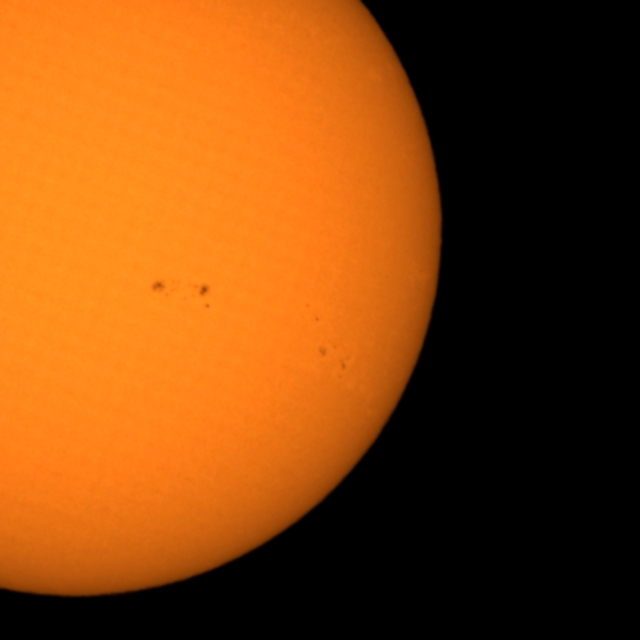sunspot: (147, 277, 215, 305), (316, 342, 352, 376), (193, 281, 213, 307), (149, 279, 173, 299), (338, 352, 351, 378), (316, 344, 329, 360), (203, 302, 212, 311), (313, 315, 321, 324)
